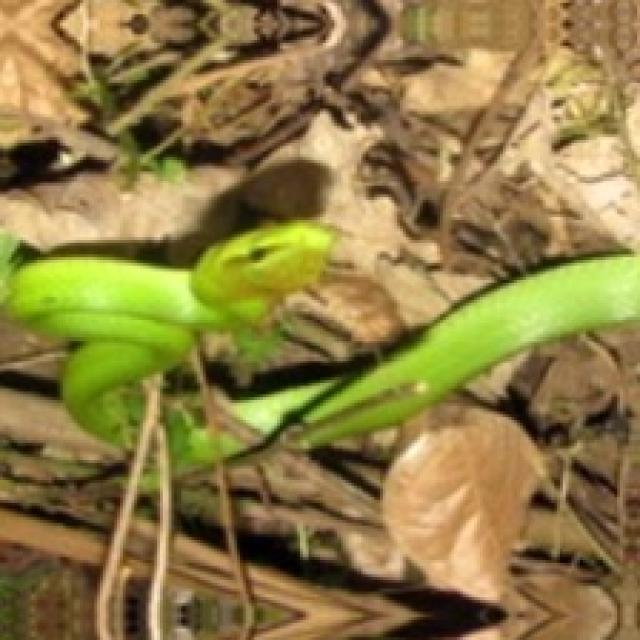red-tailed green ratsnake: (234, 256, 640, 459), (9, 220, 331, 440)
